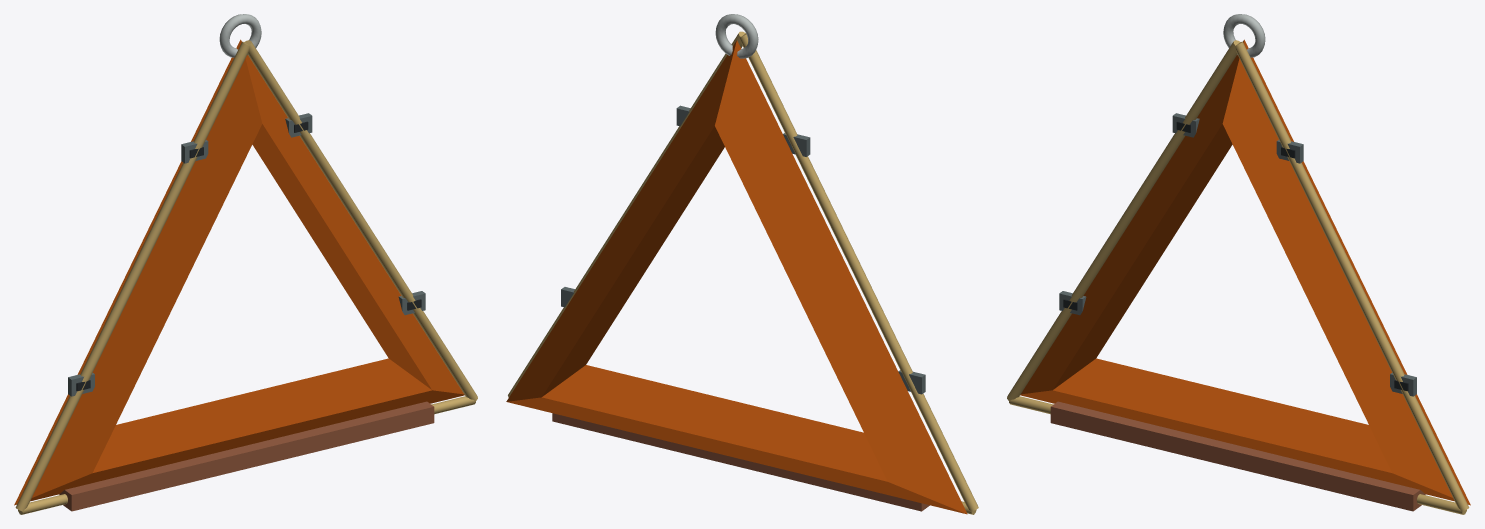
File: HARNESS.glb
3 renders of one model, left to right at view 1: azimuth 30°, elevation 25°; view 2: azimuth 150°, elevation 25°; view 3: azimuth 330°, elevation 25°, orthographic.
Visible parts, largest first — view 1: HARNESS | archived geometry, HARNESS | rescue sling bindings and attachment eye; view 2: HARNESS | archived geometry, HARNESS | rescue sling bindings and attachment eye; view 3: HARNESS | archived geometry, HARNESS | rescue sling bindings and attachment eye.
Part boxes in pixels (bbox=[...]): HARNESS | archived geometry: bbox=[14, 39, 464, 505]; HARNESS | rescue sling bindings and attachment eye: bbox=[15, 14, 477, 514]; HARNESS | archived geometry: bbox=[506, 40, 967, 514]; HARNESS | rescue sling bindings and attachment eye: bbox=[508, 14, 978, 514]; HARNESS | archived geometry: bbox=[1020, 39, 1470, 505]; HARNESS | rescue sling bindings and attachment eye: bbox=[1007, 14, 1469, 514].
Size of the model in its own units: 1.32 by 1.22 by 0.2165.
